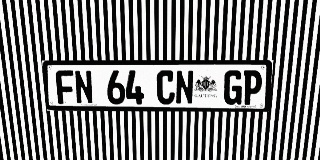4: (125, 70, 144, 104)
6: (106, 70, 125, 104)
C: (157, 70, 175, 104)
F: (55, 70, 75, 104)
G: (223, 70, 243, 105)
N: (74, 70, 94, 104), (175, 70, 194, 105)
P: (242, 70, 263, 105)
